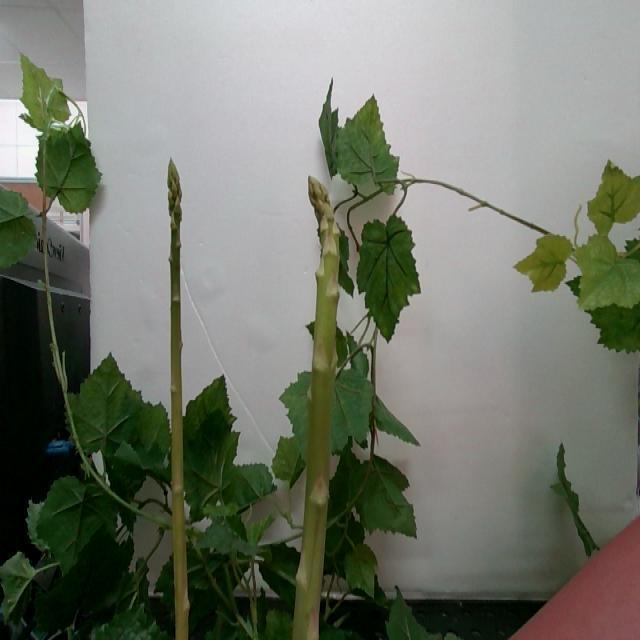aspargus: (295, 180, 343, 640), (167, 160, 188, 640)
